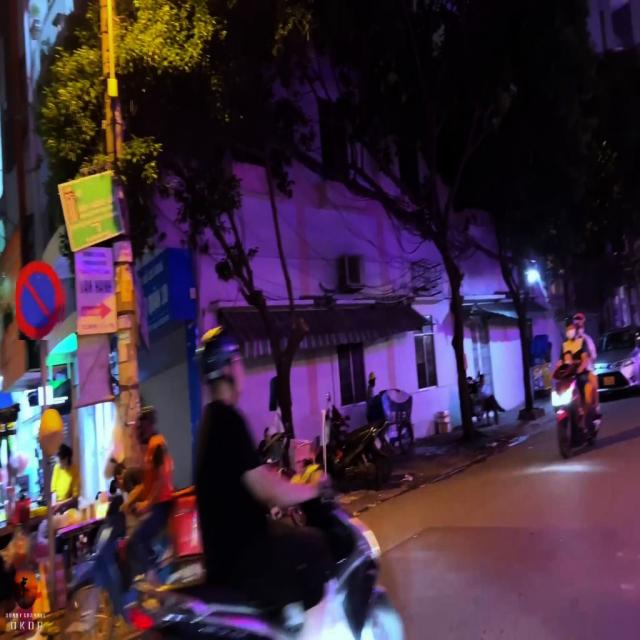cam_do_xe: (16, 260, 66, 340)
